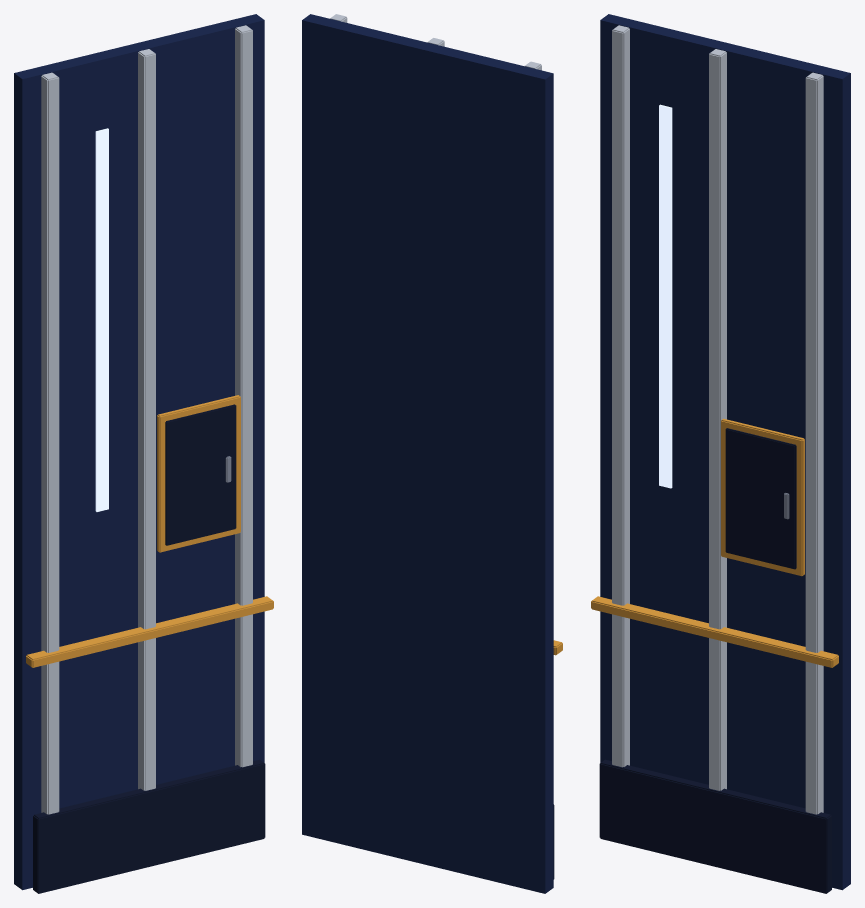
The model's file is wall_panel.glb.
3 renders of one model, left to right at view 1: azimuth 30°, elevation 25°; view 2: azimuth 150°, elevation 25°; view 3: azimuth 330°, elevation 25°, orthographic.
Parts seen in each view (by area): view 1: Base_Midnight, Body_Dim, Dark_Panel, Trim_Gold, Strip_Emissive; view 2: Base_Midnight; view 3: Base_Midnight, Body_Dim, Dark_Panel, Trim_Gold, Strip_Emissive.
Boxes of the visible parts, x1,y1,x2,y2 form: Base_Midnight: (14,14,264,890); Body_Dim: (41,25,252,814); Dark_Panel: (33,404,265,893); Trim_Gold: (26,395,273,667); Strip_Emissive: (95,128,108,511); Base_Midnight: (302,14,553,893); Base_Midnight: (600,14,850,890); Body_Dim: (612,25,823,814); Dark_Panel: (599,428,831,893); Trim_Gold: (591,418,838,667); Strip_Emissive: (659,104,672,488).
Bounding box in the file's own units: 1 × 3.2 × 0.136.
